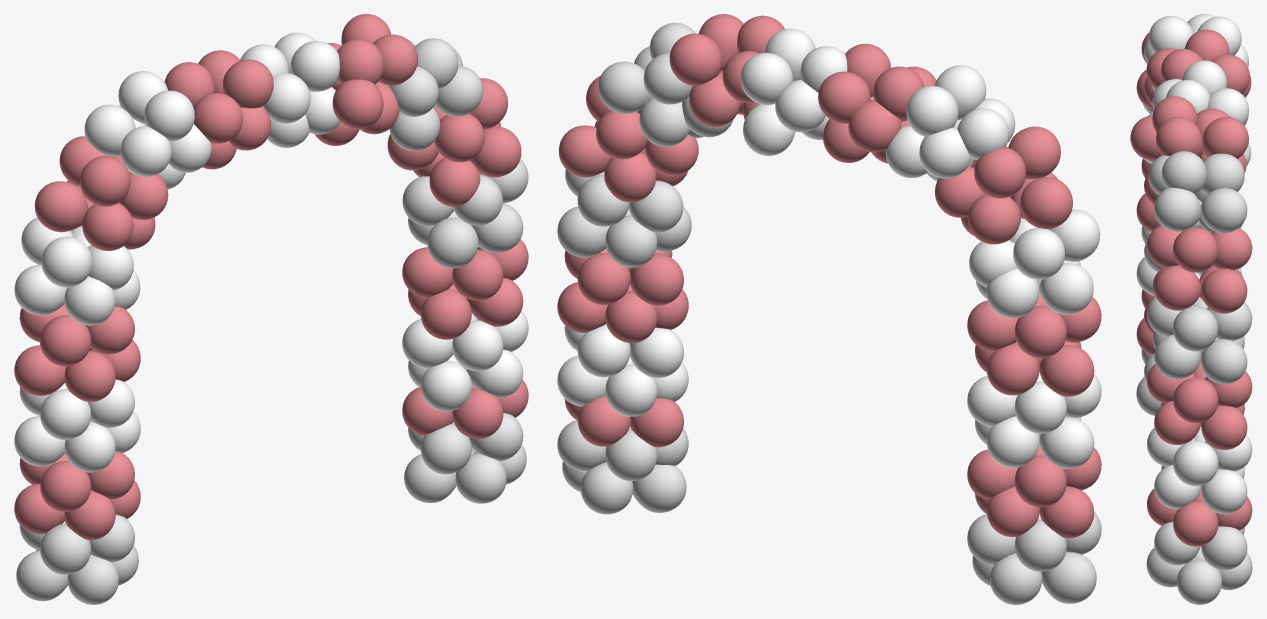
File: full-arch-cluster-optimized.glb
3 views of the same model, side by side, from view 1: azimuth 30°, elevation 25°; view 2: azimuth 150°, elevation 25°; view 3: azimuth 270°, elevation 25° (orthographic). The views are drawn at different scales.
Visible parts, largest first — view 1: Sphere.011, Sphere.023, Sphere.002; view 2: Sphere.011, Sphere.023, Sphere.002; view 3: Sphere.011, Sphere.002, Sphere.023.
Boxes of the visible parts, x1,y1,x2,y2 form: Sphere.011: (14,14,528,540); Sphere.023: (14,32,528,472); Sphere.002: (16,38,528,604); Sphere.011: (557,14,1101,538); Sphere.023: (557,28,1101,468); Sphere.002: (557,22,1101,604); Sphere.011: (1130,29,1252,546); Sphere.002: (1136,151,1252,604); Sphere.023: (1136,14,1252,514).
Size of the model in its own units: 23.37 by 21.61 by 5.44.
